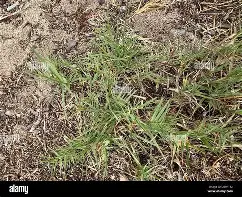weed: (38, 25, 241, 179)
